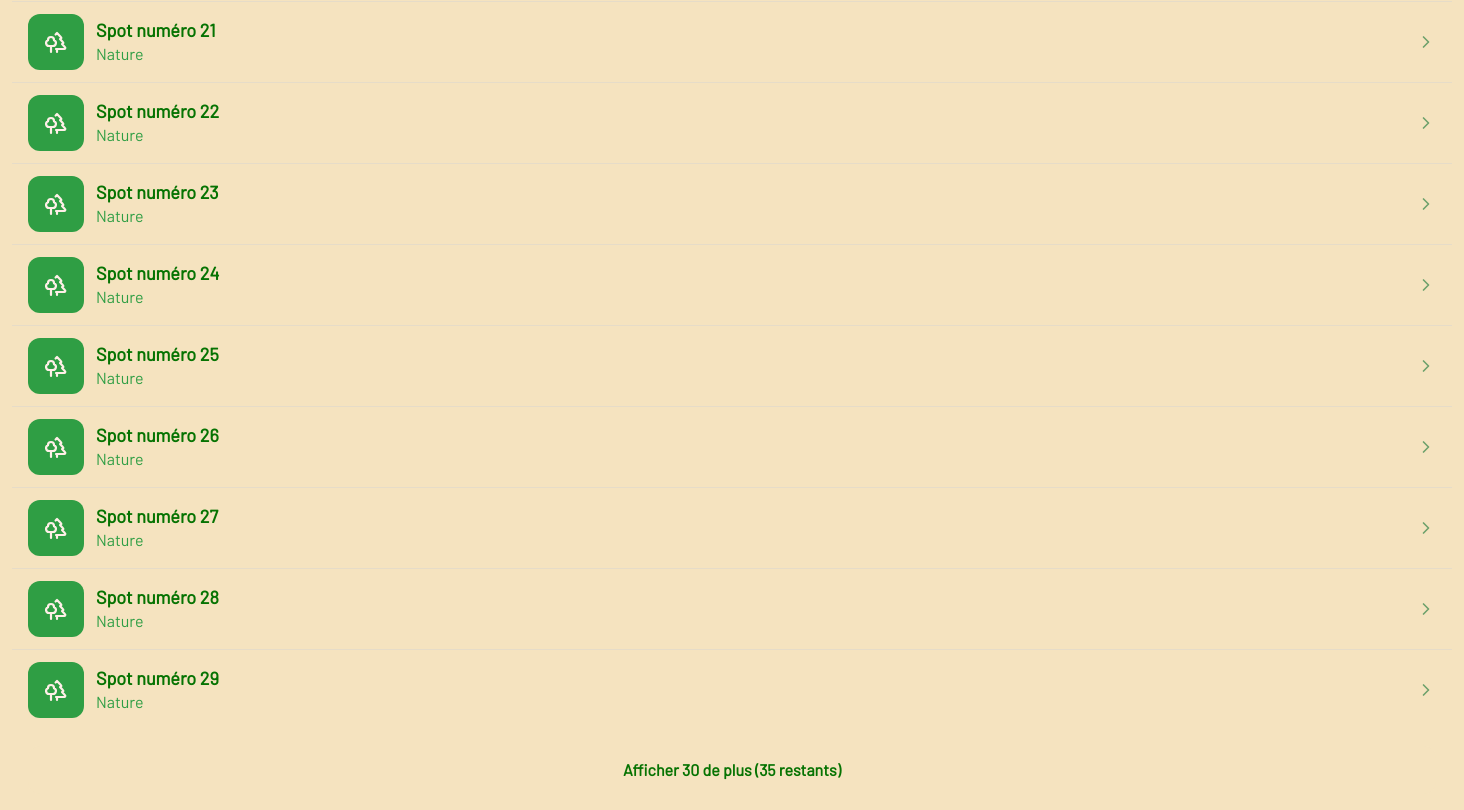
SpotList › n'affiche que 30 lignes, puis en ajoute à la demande
(page scrolled)
Click the button "Afficher 30 de plus (35 restants)".
click(732, 770)  # box [28,746,1436,794]
(page scrolled)
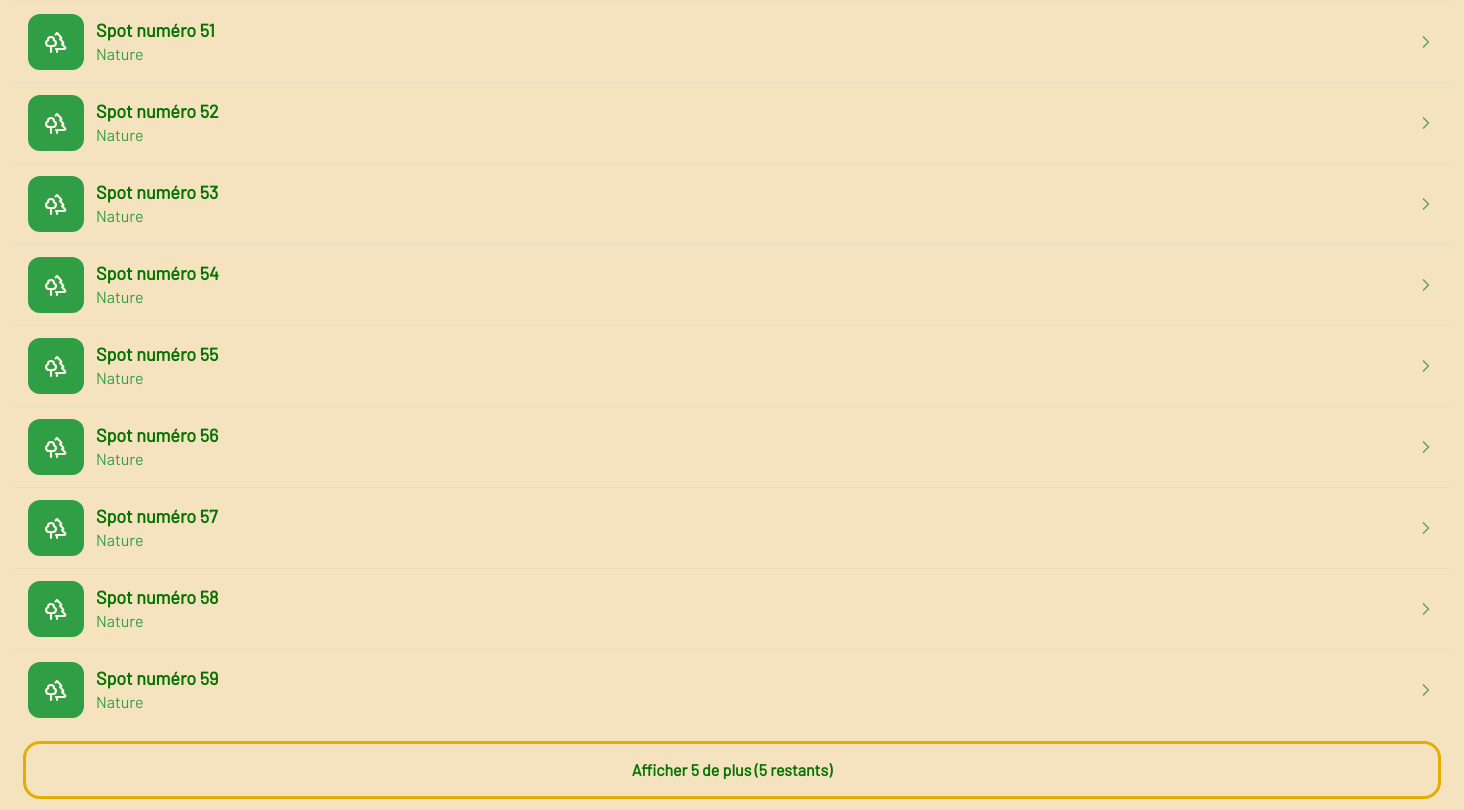
Click the button "Afficher 5 de plus (5 restants)".
click(732, 770)  # box [28,746,1436,794]
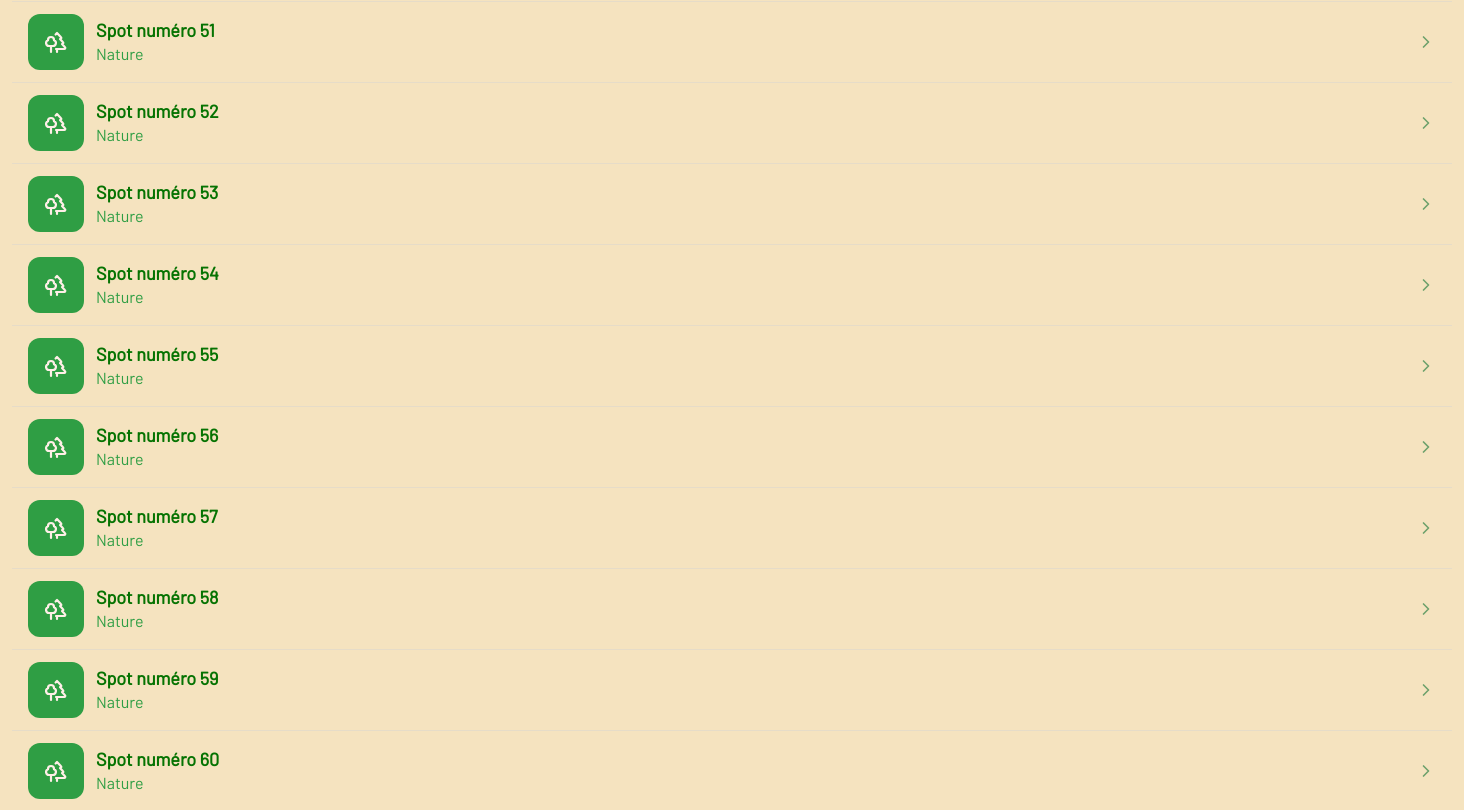
Expected: the button "Afficher" is gone
